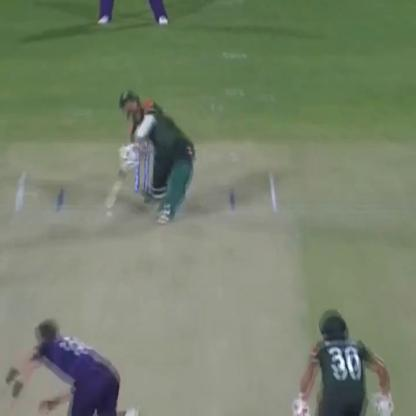ball: (103, 211, 117, 222)
bat: (104, 158, 130, 209)
pitch: (0, 162, 302, 416)
